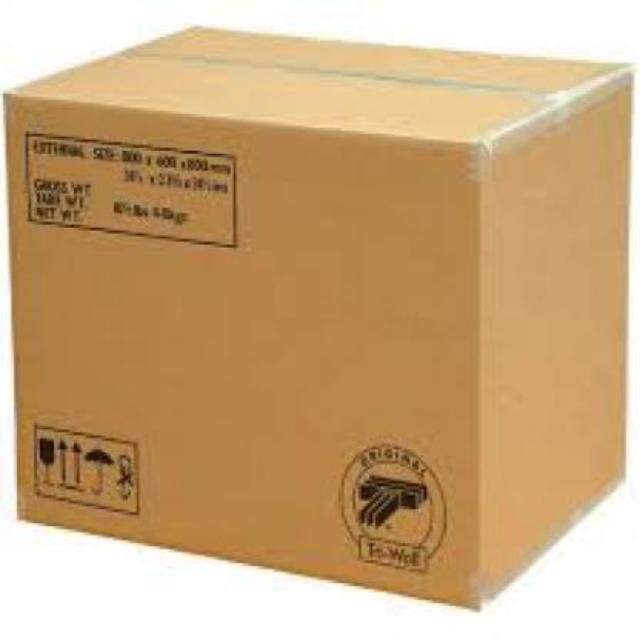cardboard_box: (3, 30, 633, 612)
